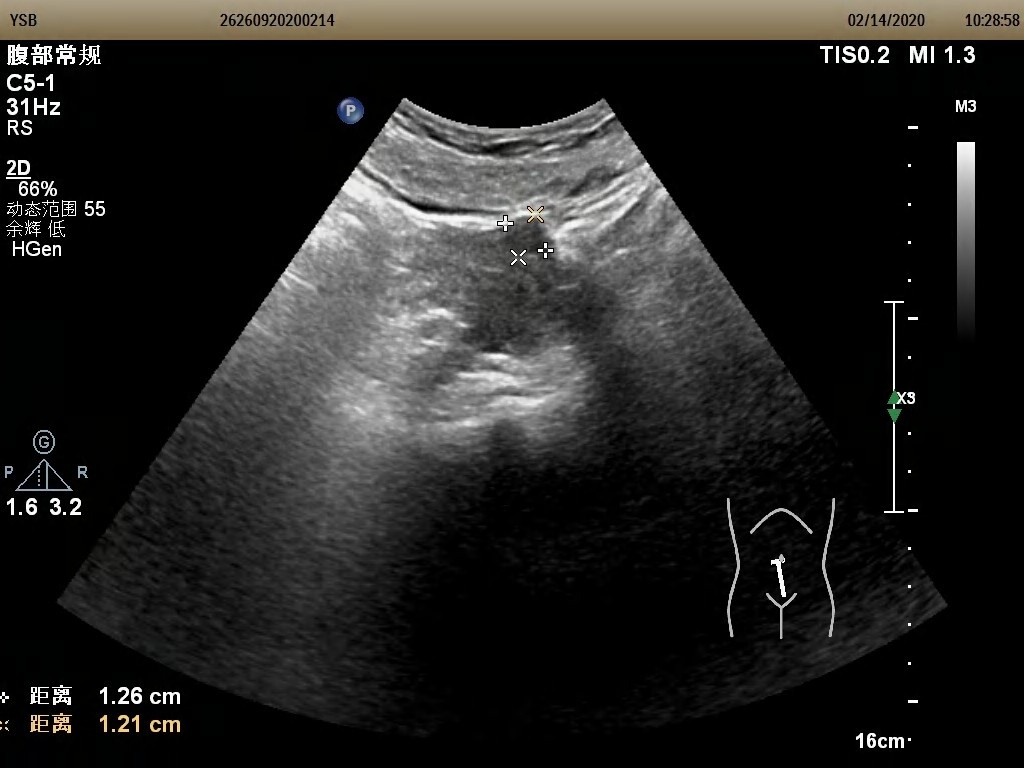肌瘤: (505, 216, 547, 259)
